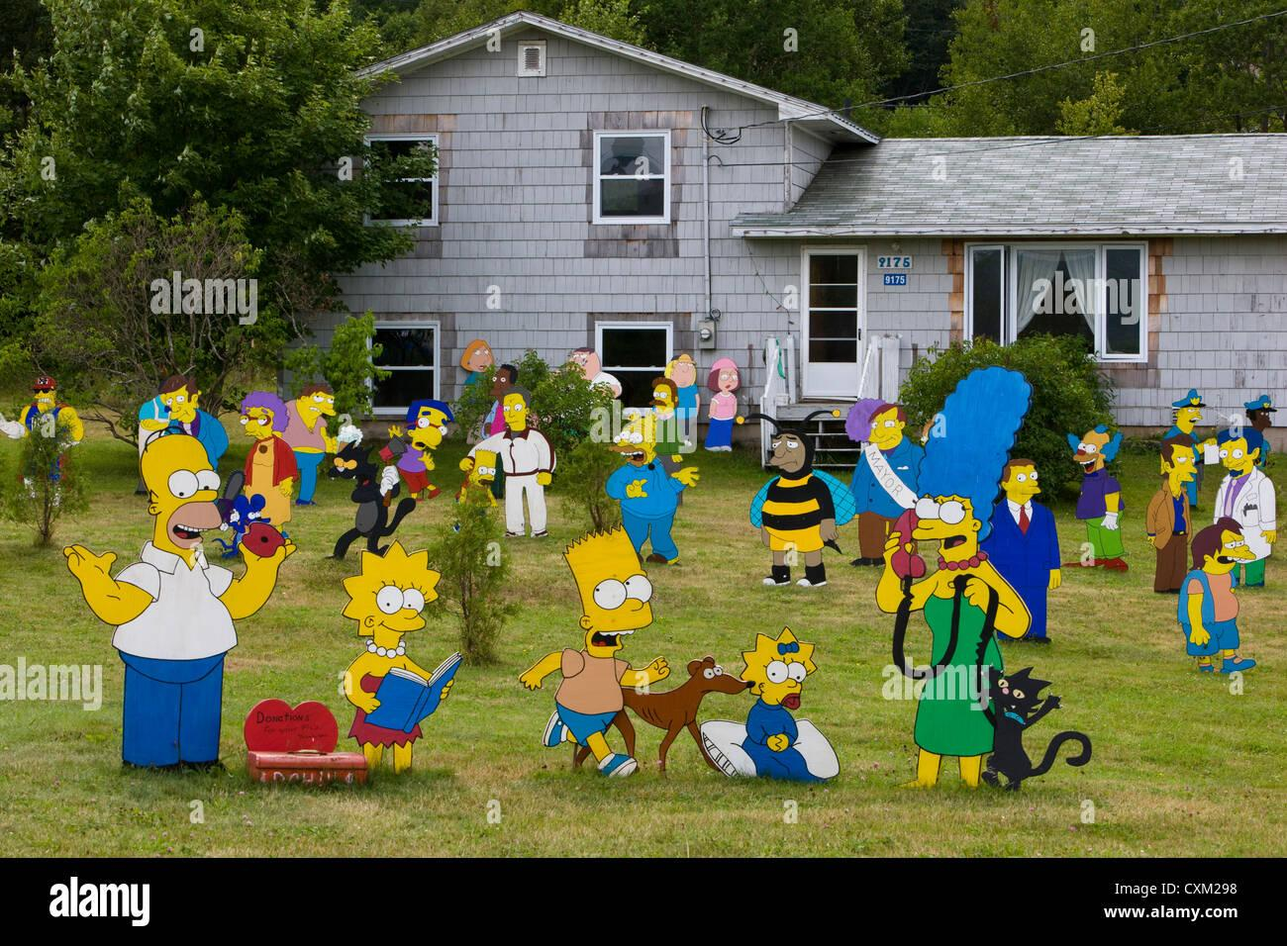Bart: (539, 517, 689, 787)
Homer: (28, 426, 311, 778)
Lisa: (323, 539, 479, 789)
Maggie: (721, 624, 848, 789)
Marge: (881, 382, 1100, 792)
